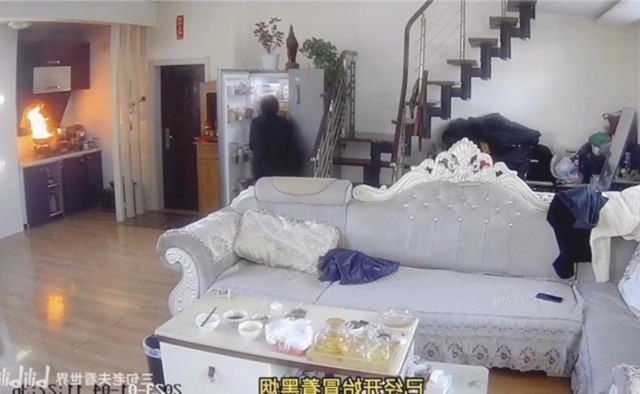fire: (12, 96, 64, 154)
